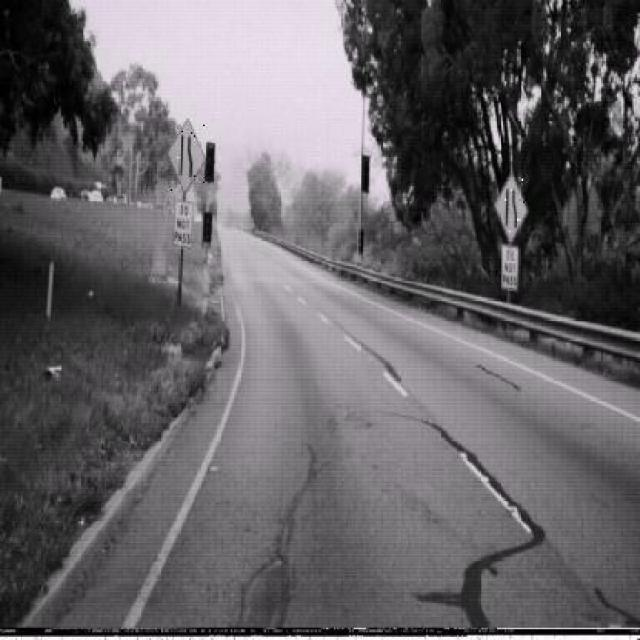laneEnds: (164, 120, 206, 197), (494, 172, 528, 244)
